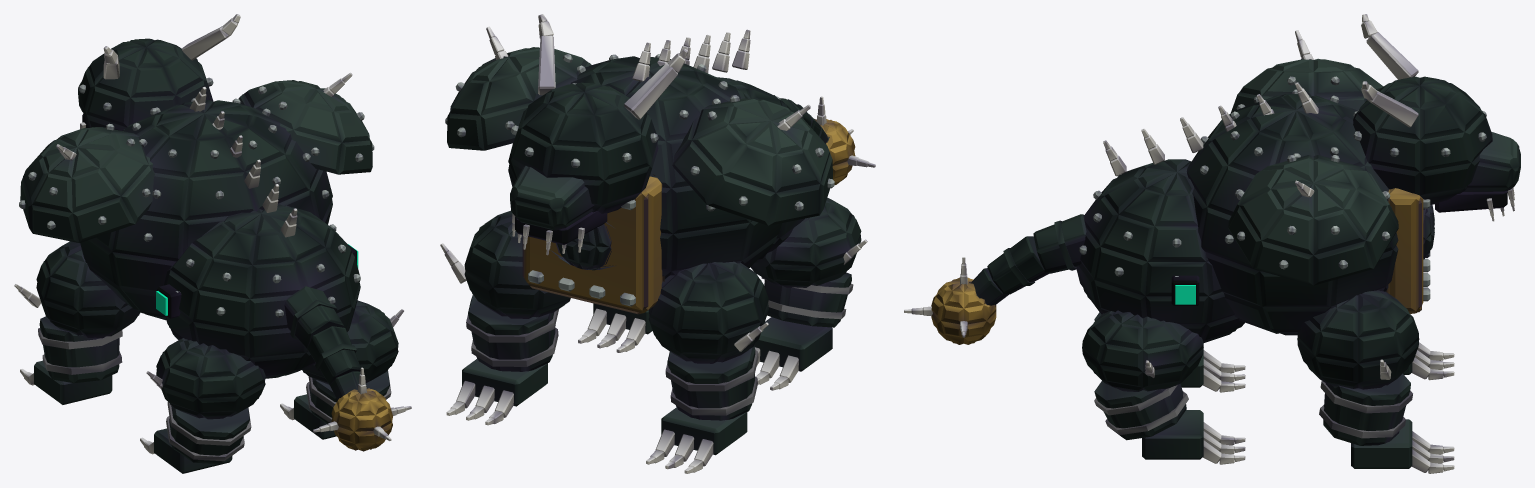
The model's file is Pixiu.glb.
3 views of the same model, side by side, from view 1: azimuth 30°, elevation 25°; view 2: azimuth 150°, elevation 25°; view 3: azimuth 270°, elevation 25° (orthographic). The views are drawn at different scales.
Visible parts, largest first — view 1: Body__Tex, Head__Tex, LegBL1__Tex, LegFL1__Tex, Tail3__Tex, LegFL2__Tex, LegBL2__Tex, LegBR1__Tex, Tail1__Tex, Tail2__Tex, LegFL3__Tex, LegBR2__Tex (+2 smaller); view 2: Body__Tex, Head__Tex, LegFL1__Tex, LegFR1__Tex, LegBL1__Tex, LegFL2__Tex, LegFR2__Tex, LegBL3__Tex, LegFL3__Tex, LegFR3__Tex, LegBL2__Tex, LegBR3__Tex (+1 smaller); view 3: Body__Tex, Head__Tex, LegFR1__Tex, LegBR1__Tex, LegFR2__Tex, Tail3__Tex, LegBR2__Tex, LegBR3__Tex, LegFR3__Tex, Tail1__Tex, Tail2__Tex, LegBL3__Tex (+1 smaller).
Boxes of the visible parts, x1=… form: Body__Tex: x1=19, y1=72, x2=374, y2=378; Head__Tex: x1=78, y1=14, x2=240, y2=130; LegBL1__Tex: x1=146, y1=338, x2=265, y2=419; LegFL1__Tex: x1=14, y1=241, x2=139, y2=338; Tail3__Tex: x1=313, y1=367, x2=411, y2=451; LegFL2__Tex: x1=38, y1=316, x2=122, y2=382; LegBL2__Tex: x1=166, y1=402, x2=251, y2=463; LegBR1__Tex: x1=302, y1=300, x2=403, y2=384; Tail1__Tex: x1=284, y1=286, x2=343, y2=349; Tail2__Tex: x1=307, y1=326, x2=360, y2=385; LegFL3__Tex: x1=20, y1=360, x2=112, y2=404; LegBR2__Tex: x1=306, y1=370, x2=391, y2=424; Body__Tex: x1=445, y1=26, x2=834, y2=314; Head__Tex: x1=510, y1=14, x2=688, y2=255; LegFL1__Tex: x1=648, y1=261, x2=768, y2=363; LegFR1__Tex: x1=440, y1=210, x2=570, y2=318; LegBL1__Tex: x1=750, y1=197, x2=867, y2=287; LegFL2__Tex: x1=665, y1=345, x2=758, y2=420; LegFR2__Tex: x1=466, y1=294, x2=558, y2=371; LegBL3__Tex: x1=754, y1=317, x2=832, y2=390; LegFL3__Tex: x1=646, y1=407, x2=747, y2=473; LegFR3__Tex: x1=446, y1=359, x2=547, y2=425; LegBL2__Tex: x1=761, y1=272, x2=853, y2=327; LegBR3__Tex: x1=578, y1=303, x2=652, y2=352; Body__Tex: x1=1076, y1=30, x2=1434, y2=343; Head__Tex: x1=1353, y1=14, x2=1520, y2=221; LegFR1__Tex: x1=1297, y1=290, x2=1419, y2=389; LegBR1__Tex: x1=1082, y1=310, x2=1203, y2=391; LegFR2__Tex: x1=1319, y1=373, x2=1412, y2=445; Tail3__Tex: x1=904, y1=257, x2=1008, y2=344; LegBR2__Tex: x1=1094, y1=381, x2=1188, y2=440; LegBR3__Tex: x1=1142, y1=410, x2=1245, y2=464; LegFR3__Tex: x1=1351, y1=419, x2=1454, y2=473; Tail1__Tex: x1=1033, y1=214, x2=1086, y2=273; Tail2__Tex: x1=987, y1=236, x2=1049, y2=294; LegBL3__Tex: x1=1180, y1=343, x2=1245, y2=392.
Size of the model in its own units: 4.73 by 4.79 by 7.23.
